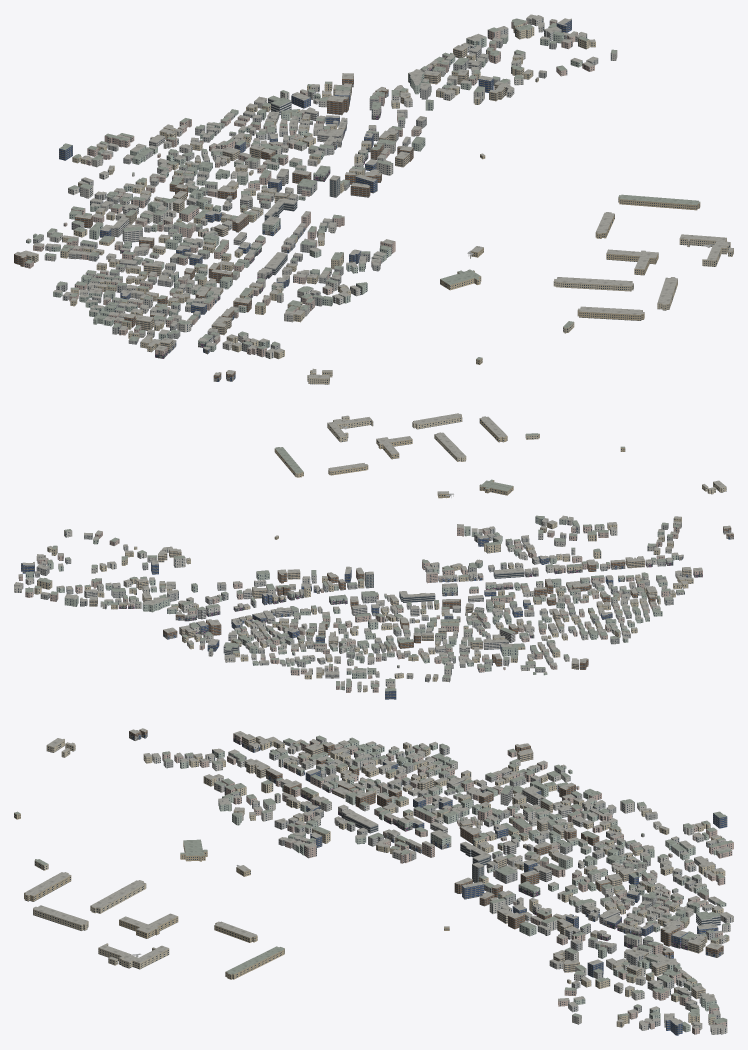
Rendered from ArahaTown_Block_W01024_S03072.gltf.
The picture shows the model from 3 angles, top to bottom: view 1: azimuth 30°, elevation 25°; view 2: azimuth 150°, elevation 25°; view 3: azimuth 270°, elevation 25°; orthographic projection. The views are drawn at different scales.
Parts seen in each view (by area): view 1: ArahaTown_Block_W01024_S03072; view 2: ArahaTown_Block_W01024_S03072; view 3: ArahaTown_Block_W01024_S03072.
Part boxes in pixels (x1,y1,x2,y2): ArahaTown_Block_W01024_S03072: [14, 14, 733, 384]; ArahaTown_Block_W01024_S03072: [14, 413, 733, 699]; ArahaTown_Block_W01024_S03072: [14, 728, 733, 1035].
Bounding box in the file's own units: 1043 × 68.59 × 1017.
20 materials, 19 textured.
